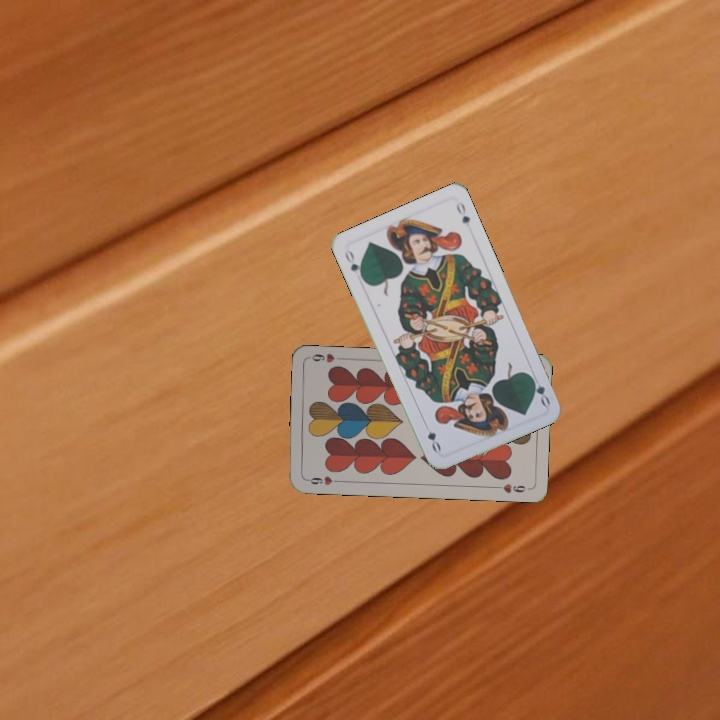GO: (525, 370, 553, 409), (341, 245, 367, 283)
H9: (302, 472, 343, 488)
